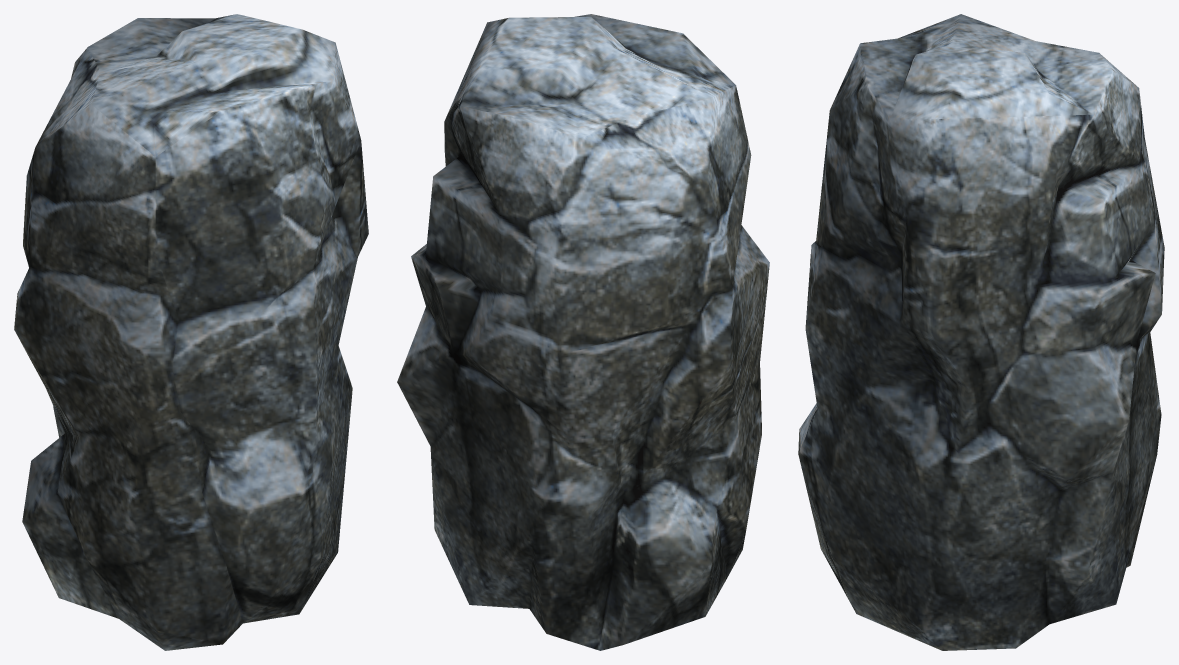
File: SC_bingfengyiji_shitou07.FBX
3 views of the same model, side by side, from view 1: azimuth 30°, elevation 25°; view 2: azimuth 150°, elevation 25°; view 3: azimuth 270°, elevation 25° (orthographic). The views are drawn at different scales.
Parts seen in each view (by area): view 1: SC_bingfengyiji_shitou07; view 2: SC_bingfengyiji_shitou07; view 3: SC_bingfengyiji_shitou07.
Part boxes in pixels (<box>): SC_bingfengyiji_shitou07: <box>14,14,368,650</box>; SC_bingfengyiji_shitou07: <box>397,14,769,650</box>; SC_bingfengyiji_shitou07: <box>798,14,1164,650</box>.
Size of the model in its own units: 627 by 1081 by 624.
